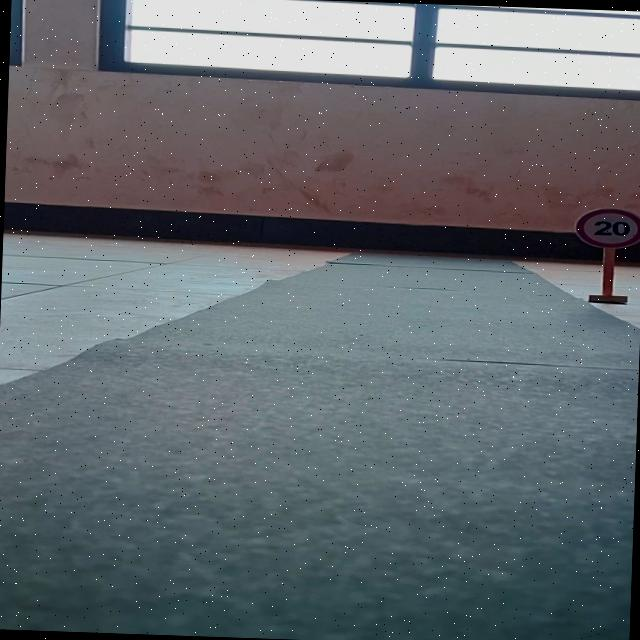Speed20: (572, 201, 640, 254)
